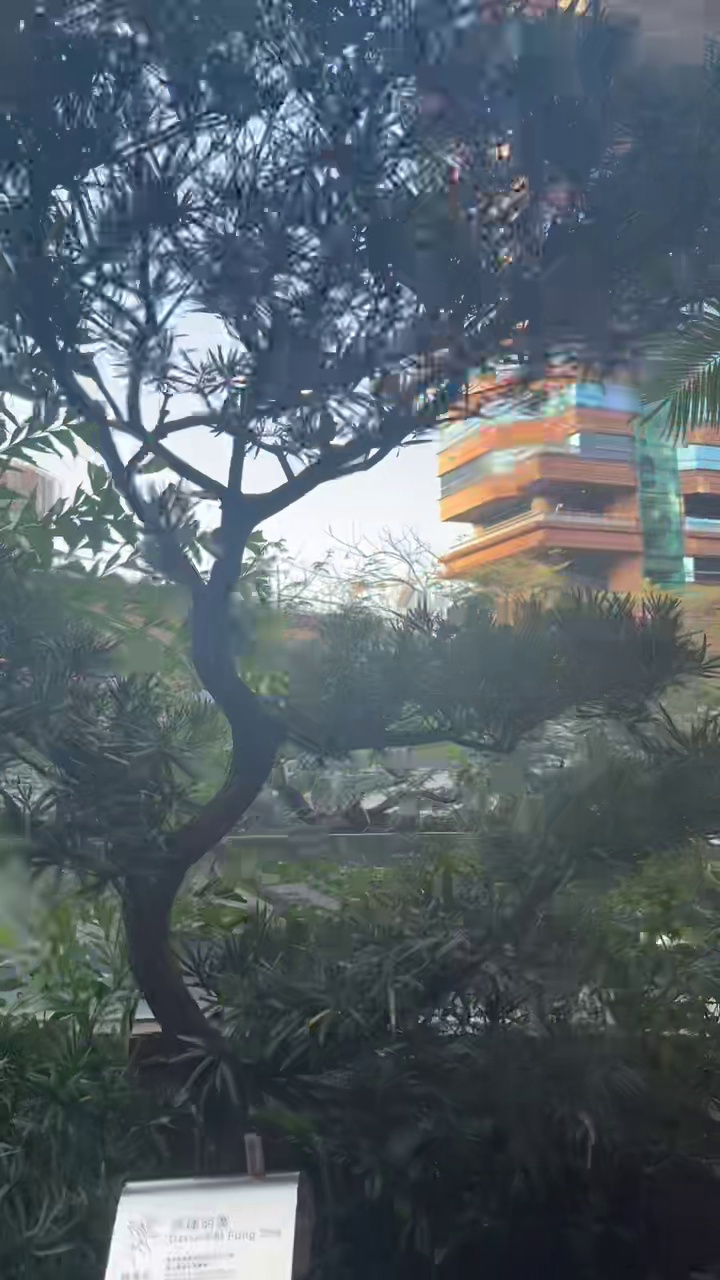Podocarpus macrophyllus: (0, 0, 719, 1083)
